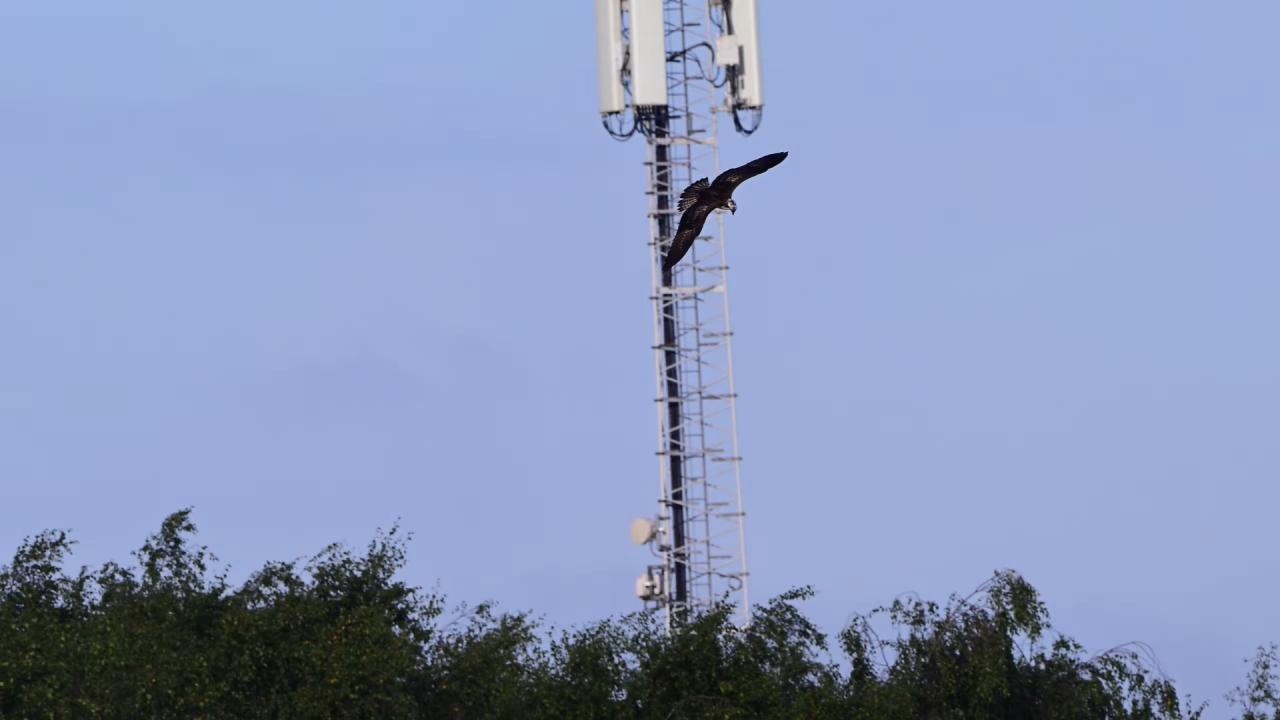Bird: (656, 145, 792, 273)
